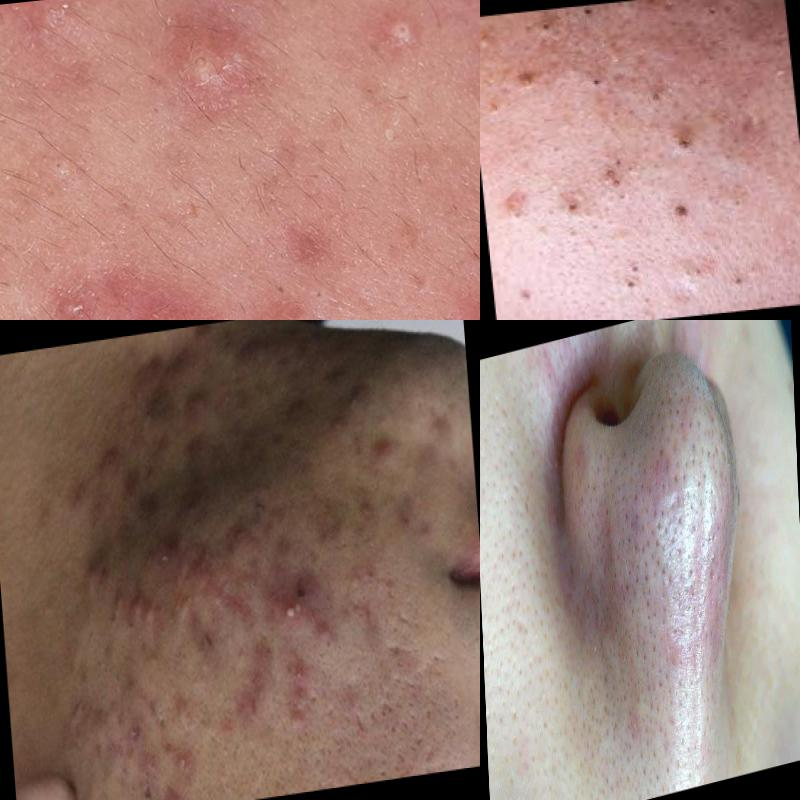blackhead: (576, 686, 616, 795), (657, 376, 700, 454), (641, 451, 681, 532), (678, 600, 718, 680), (672, 689, 707, 777), (610, 627, 650, 703), (675, 523, 709, 600), (580, 469, 614, 546), (577, 46, 614, 115), (652, 599, 679, 689), (680, 449, 711, 527), (641, 695, 672, 772), (624, 550, 655, 623), (613, 247, 657, 298), (711, 503, 737, 588), (662, 126, 716, 166), (554, 175, 593, 227), (599, 149, 635, 204), (596, 559, 623, 626), (650, 527, 676, 596), (615, 476, 642, 541), (707, 436, 732, 503), (695, 1, 746, 28), (531, 12, 570, 39), (645, 83, 681, 105)
cystic: (231, 511, 262, 575), (132, 581, 163, 637), (173, 672, 197, 744), (62, 698, 85, 736)
milium: (578, 550, 593, 606), (624, 701, 642, 746), (586, 633, 606, 666)
purulent: (158, 33, 236, 111), (376, 1, 426, 73), (289, 648, 324, 690)
sebo-crystan-conglo: (285, 259, 359, 321), (125, 282, 234, 321), (278, 561, 323, 621)
